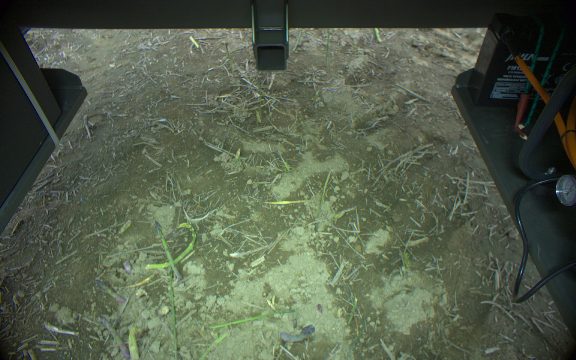aspa: (144, 223, 198, 270), (209, 308, 296, 328), (153, 220, 181, 281), (95, 313, 129, 358), (197, 329, 231, 360), (168, 279, 181, 360), (93, 279, 126, 303), (283, 324, 315, 344), (127, 327, 140, 360)
